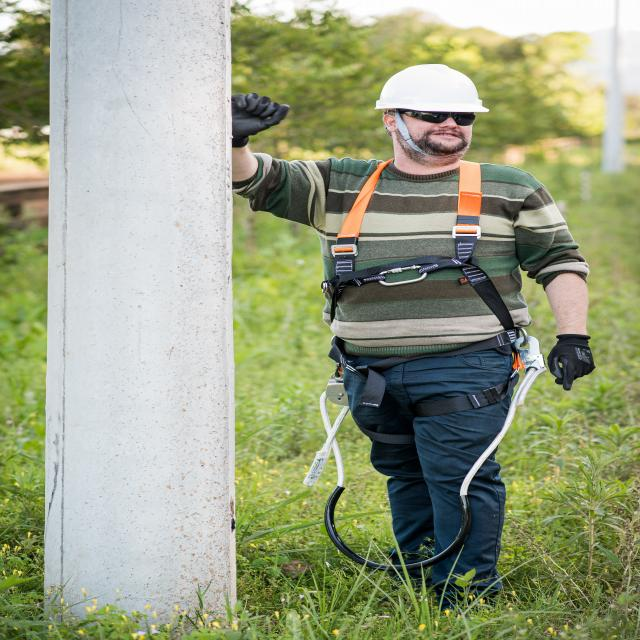capacete: (372, 62, 494, 114)
corda de vida: (313, 156, 546, 428)
luva: (227, 90, 297, 149), (542, 329, 606, 392)
